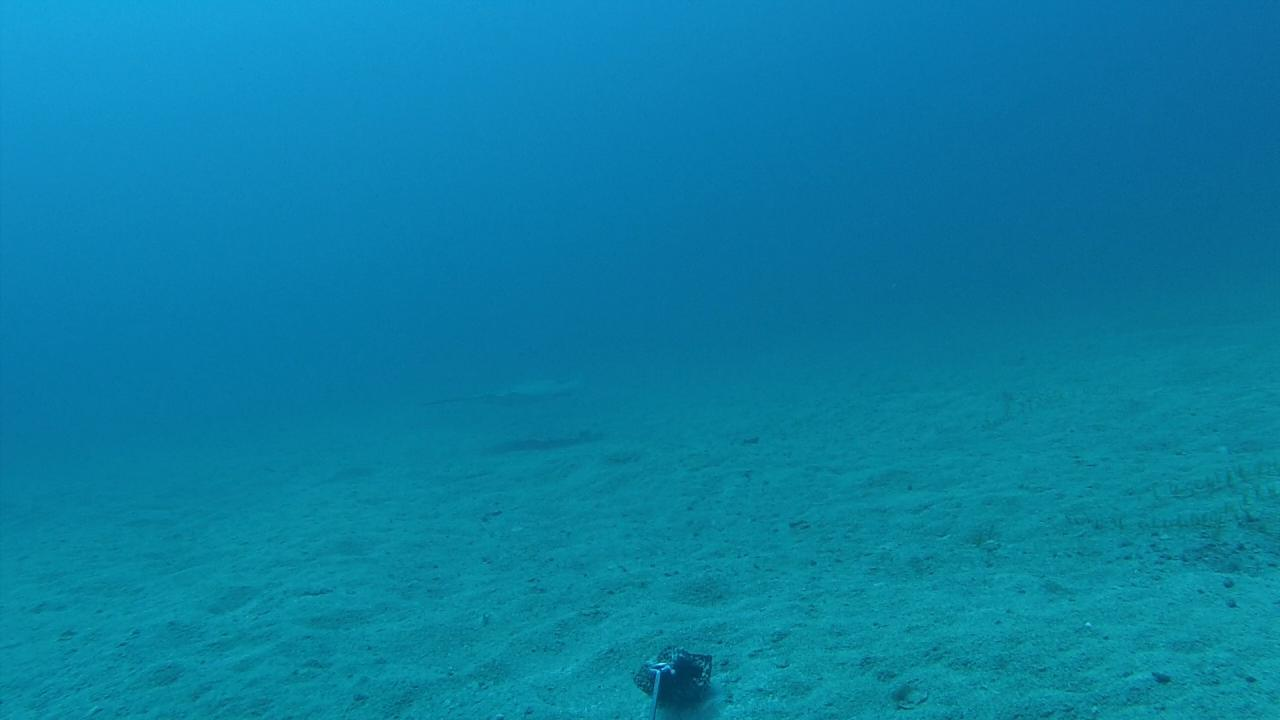dasyatis: (414, 374, 582, 408)
